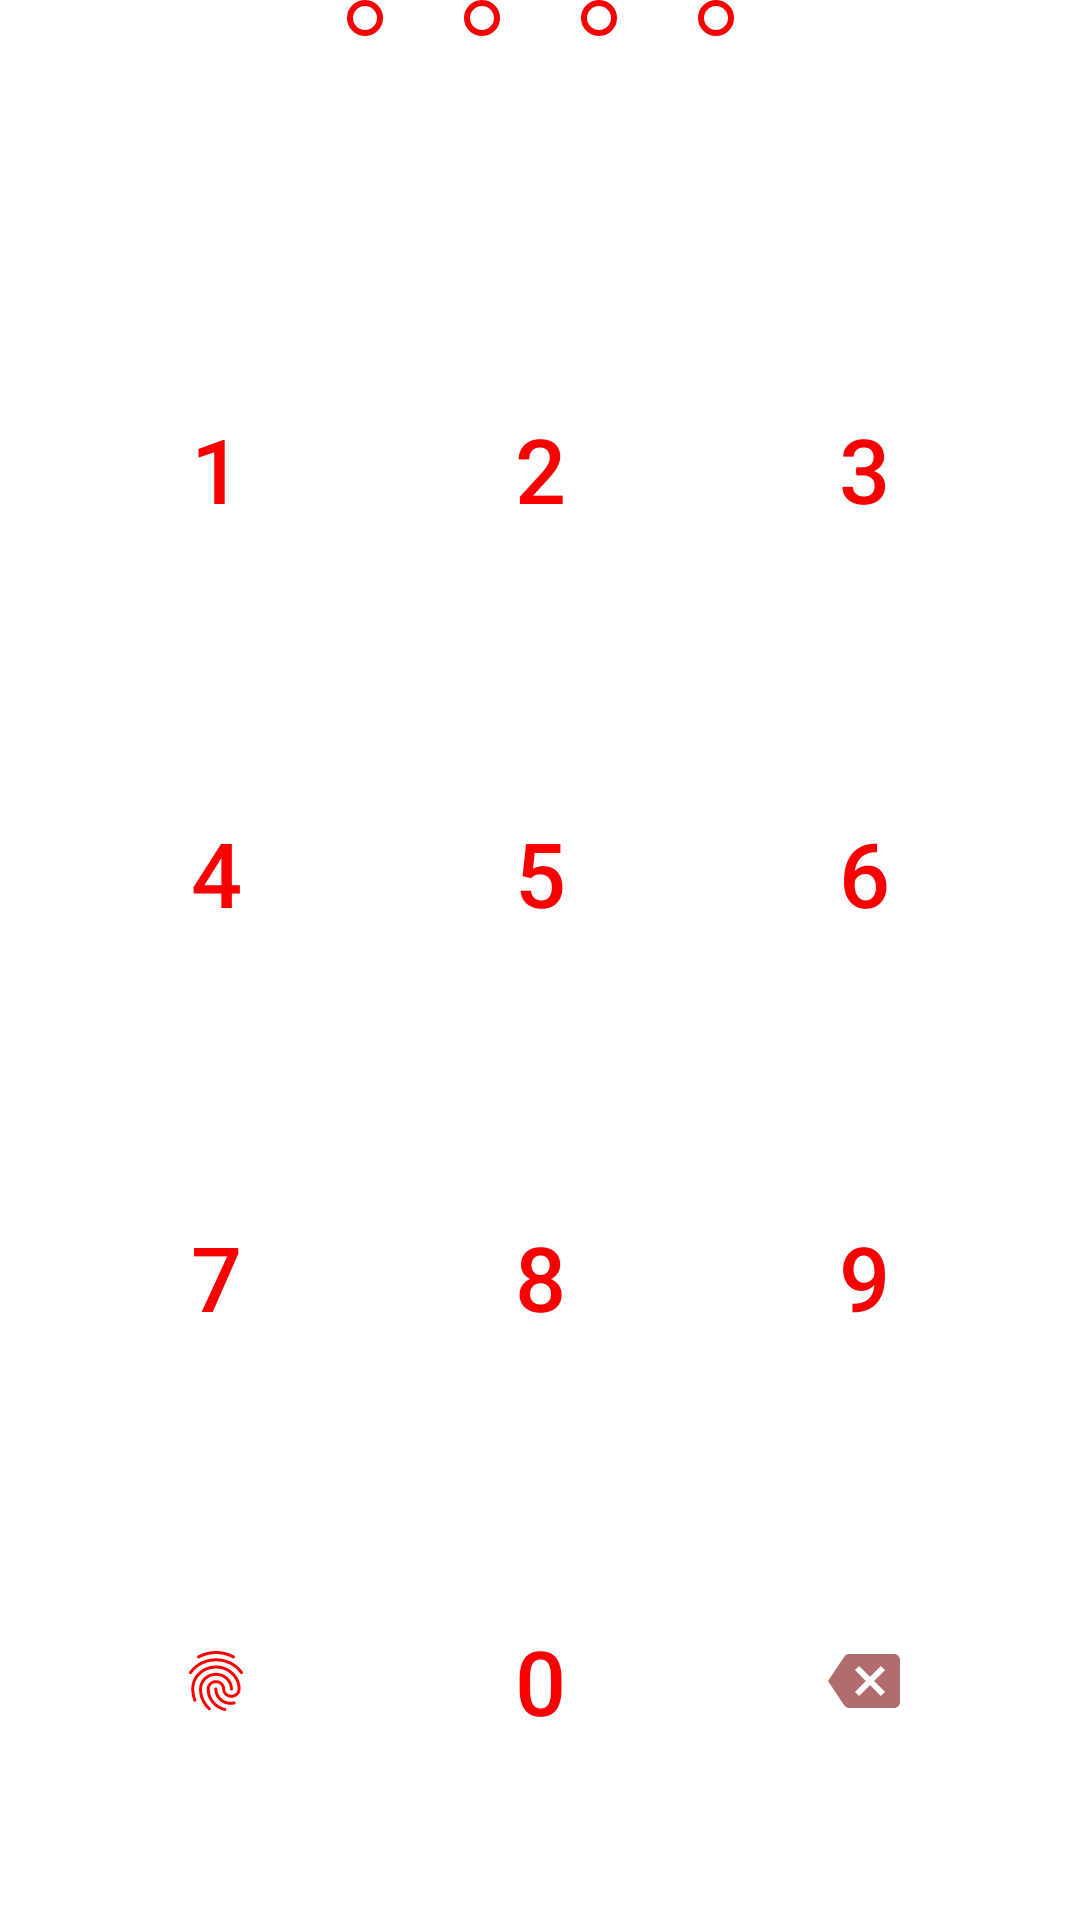

Locate icon controls on the screen. Image size 1080x1920, boxes as (x1, y1, x2, y2).
clear: (828, 1654, 900, 1708)
fingerprint: (189, 1651, 243, 1711)
